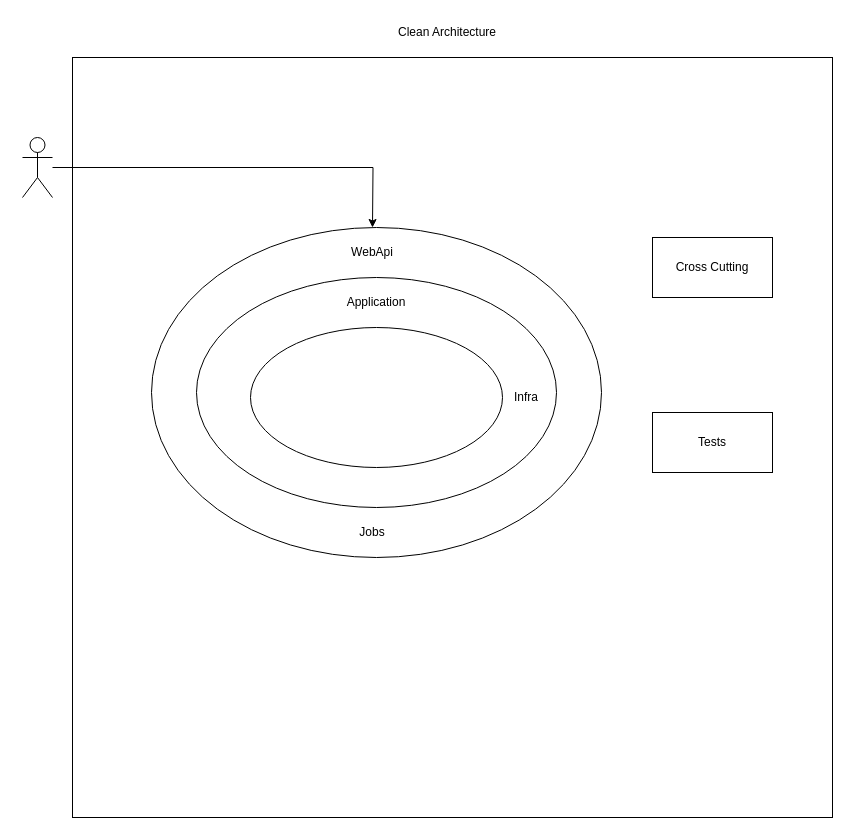
Some shapes in this 850 by 835 pixel diagram are drawn without their labels. Each missing label, with the centre of its shape:
"Domain" belongs at [376,397].
"Usuario" belongs at [37,167].
